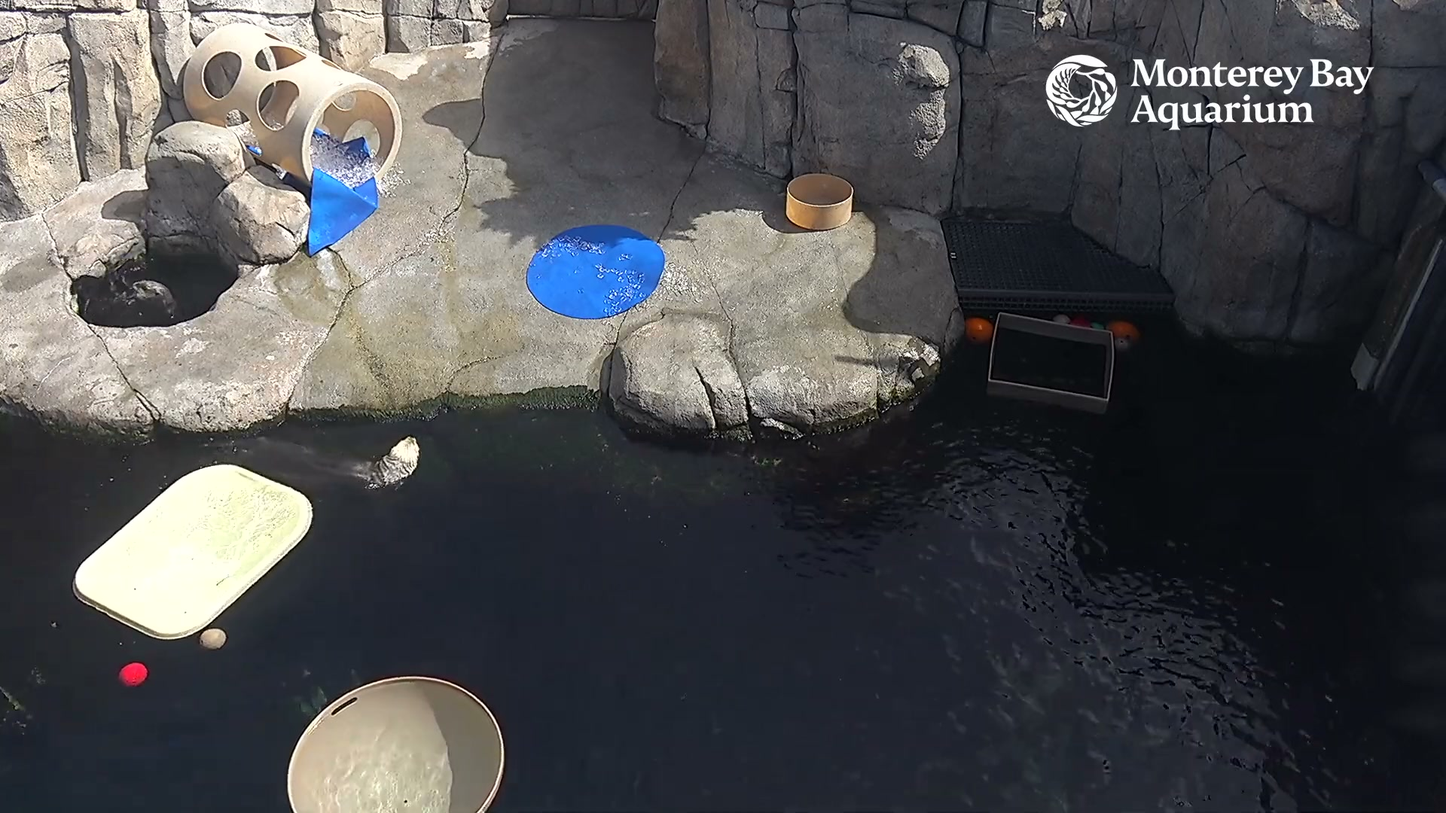Southern Sea Otter: (201, 419, 430, 513), (109, 268, 187, 332)
